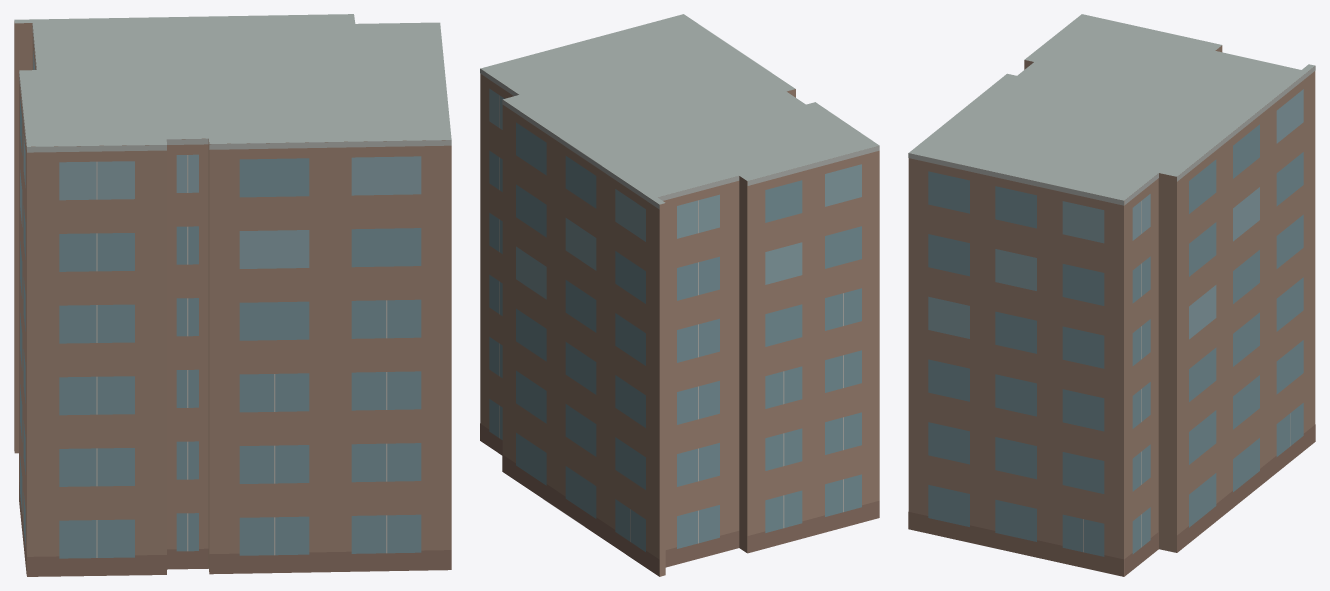
File: survey-upis-32658268.glb
3 renders of one model, left to right at view 1: azimuth 30°, elevation 25°; view 2: azimuth 150°, elevation 25°; view 3: azimuth 270°, elevation 25°, orthographic. The views are drawn at different scales.
Parts seen in each view (by area): view 1: survey-upis-32658268.tmp; view 2: survey-upis-32658268.tmp; view 3: survey-upis-32658268.tmp.
Boxes of the visible parts, x1,y1,x2,y2 form: survey-upis-32658268.tmp: [14, 14, 451, 576]; survey-upis-32658268.tmp: [480, 14, 879, 576]; survey-upis-32658268.tmp: [908, 14, 1315, 576].
Size of the model in its own units: 19.49 by 18.3 by 17.95.
